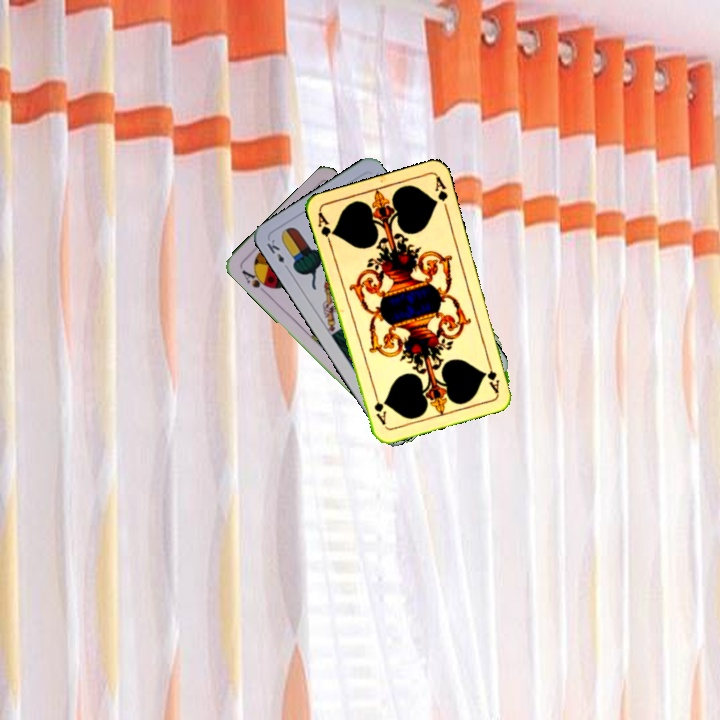EK: (263, 235, 292, 273)
GA: (314, 208, 337, 248), (483, 355, 502, 396)
SA: (238, 266, 274, 296)
